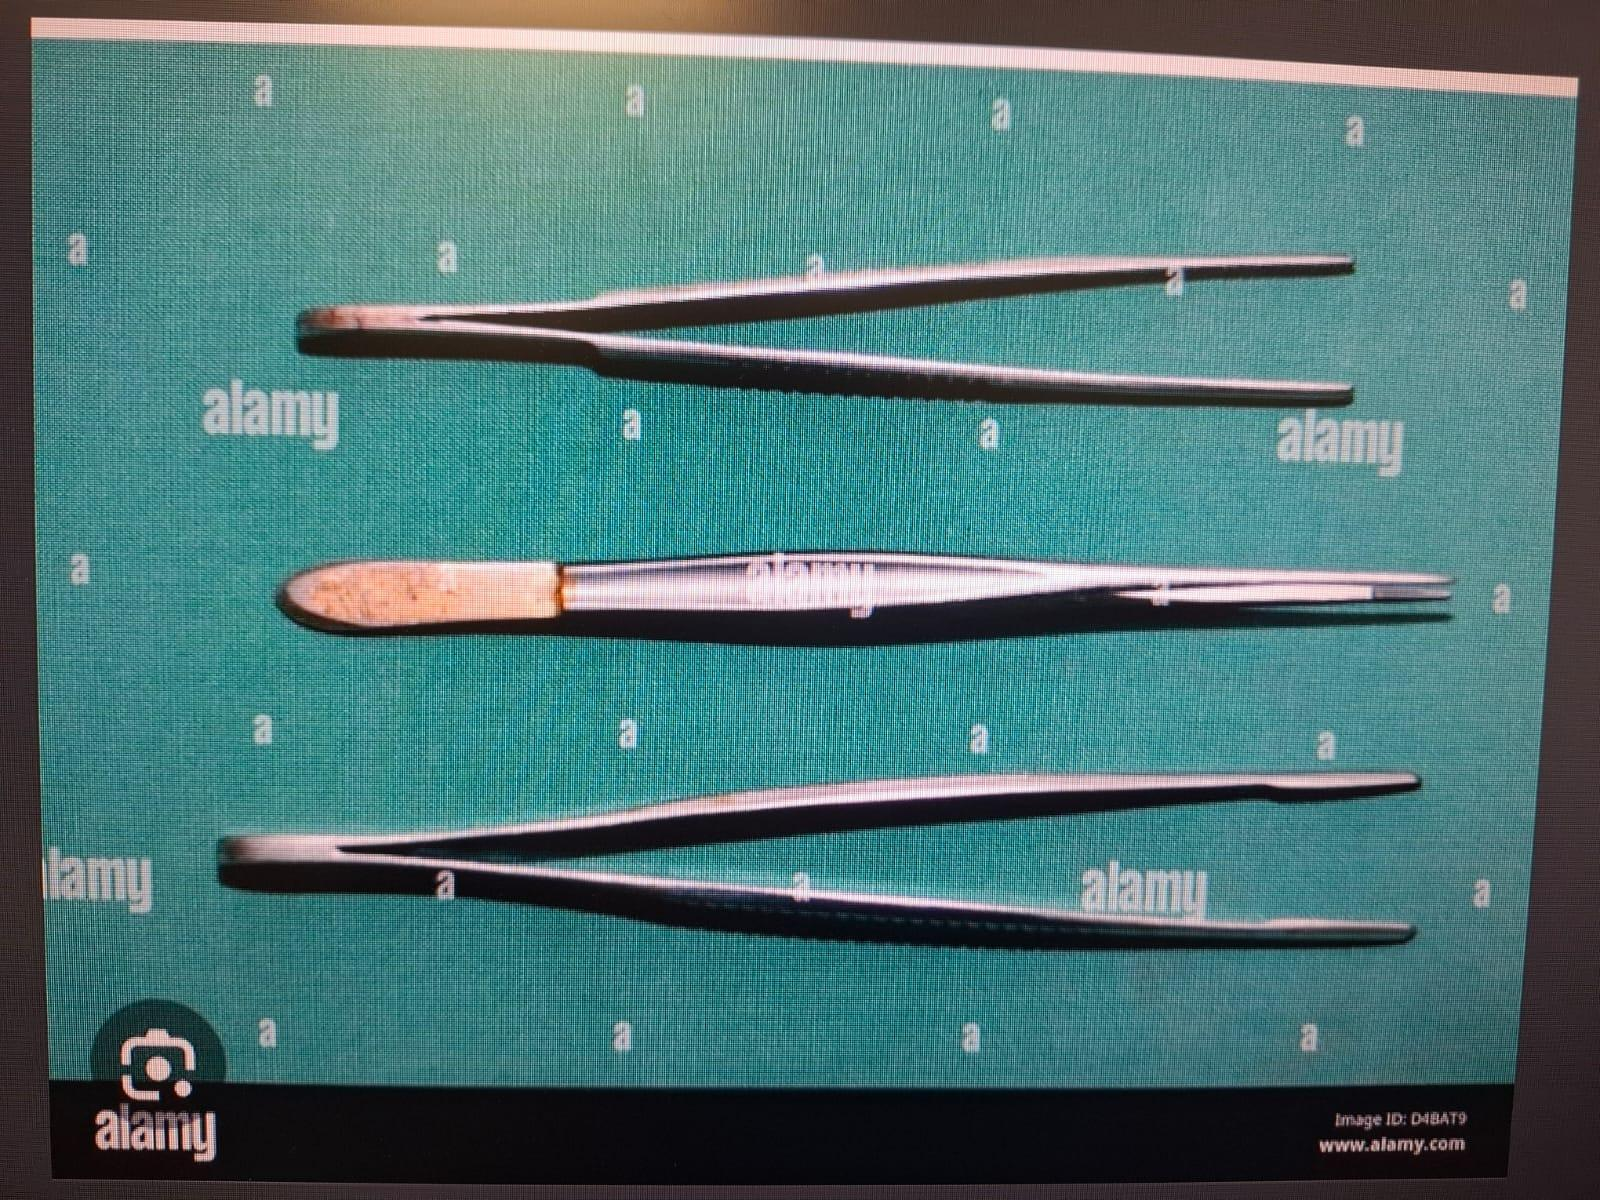Disscting Forceps: (186, 736, 1444, 986), (273, 187, 1376, 453), (262, 505, 1488, 671)
